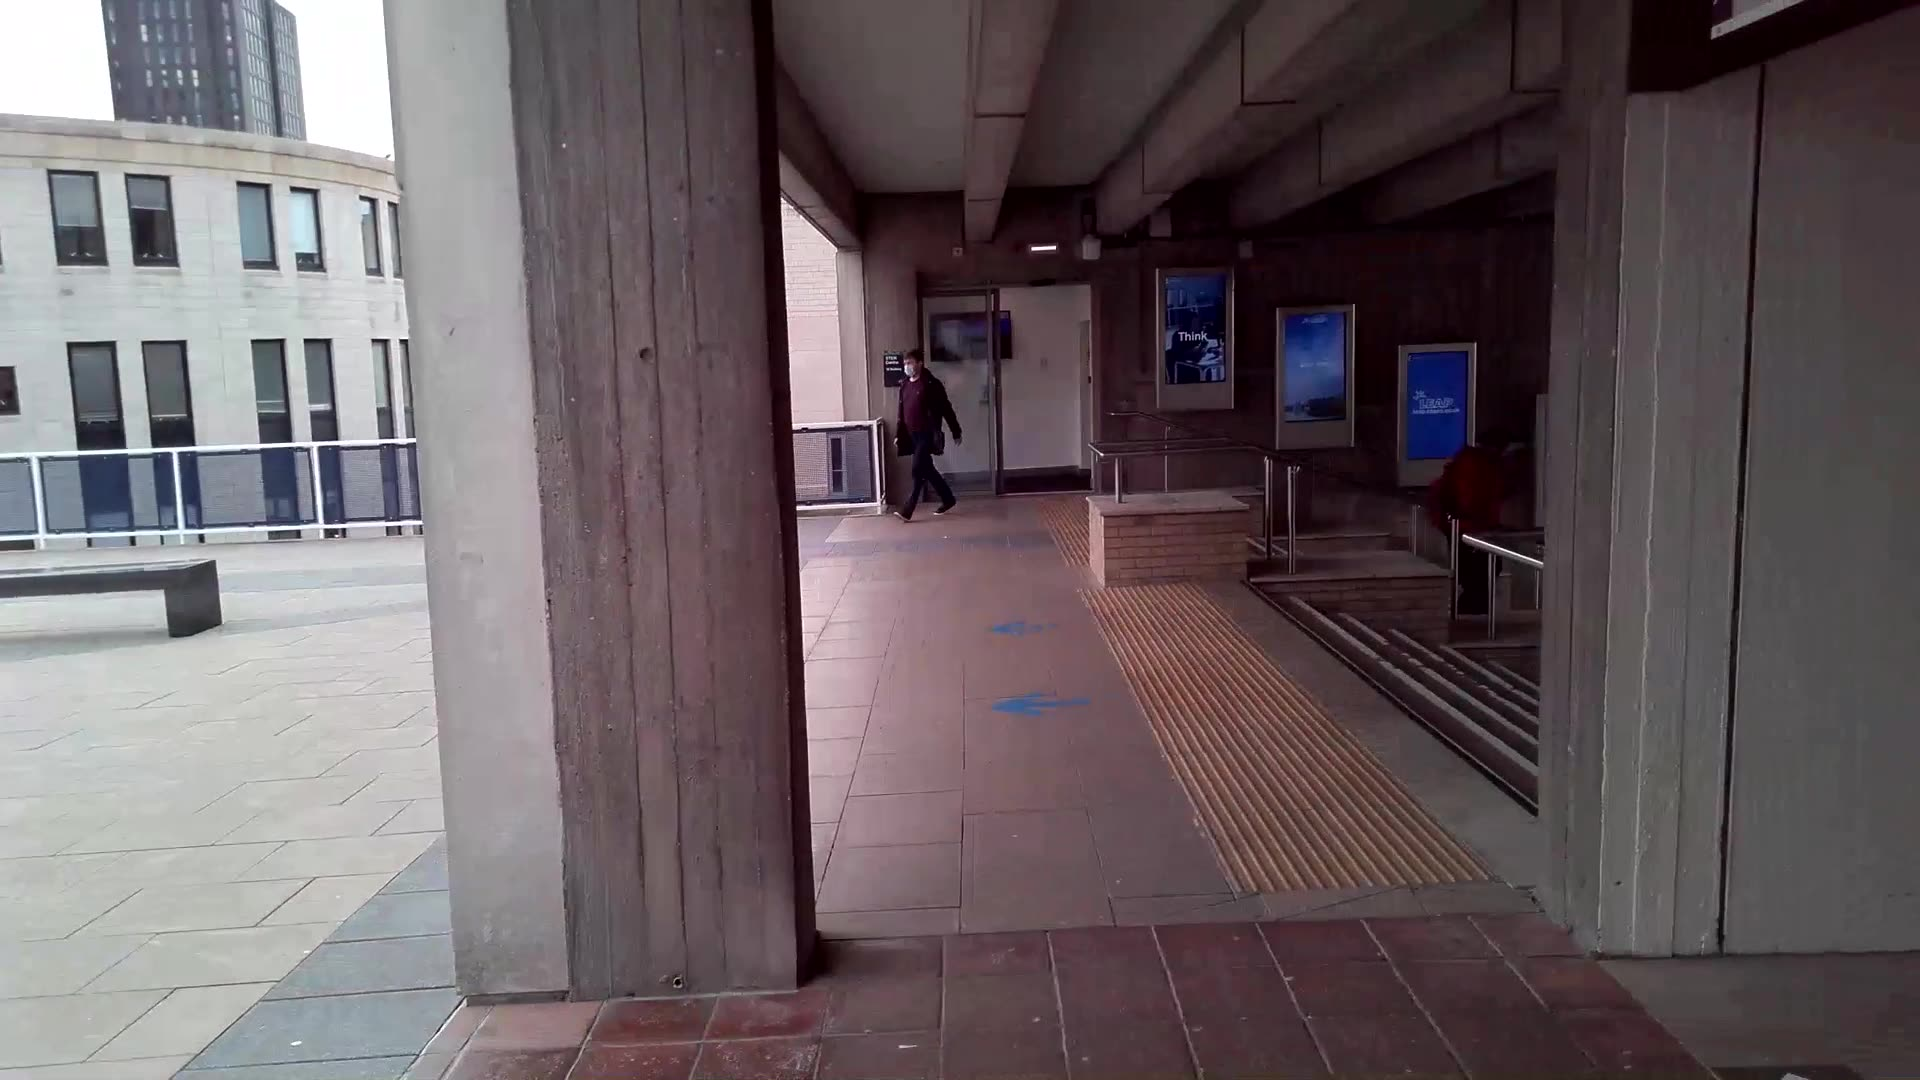Person: (888, 347, 972, 515)
